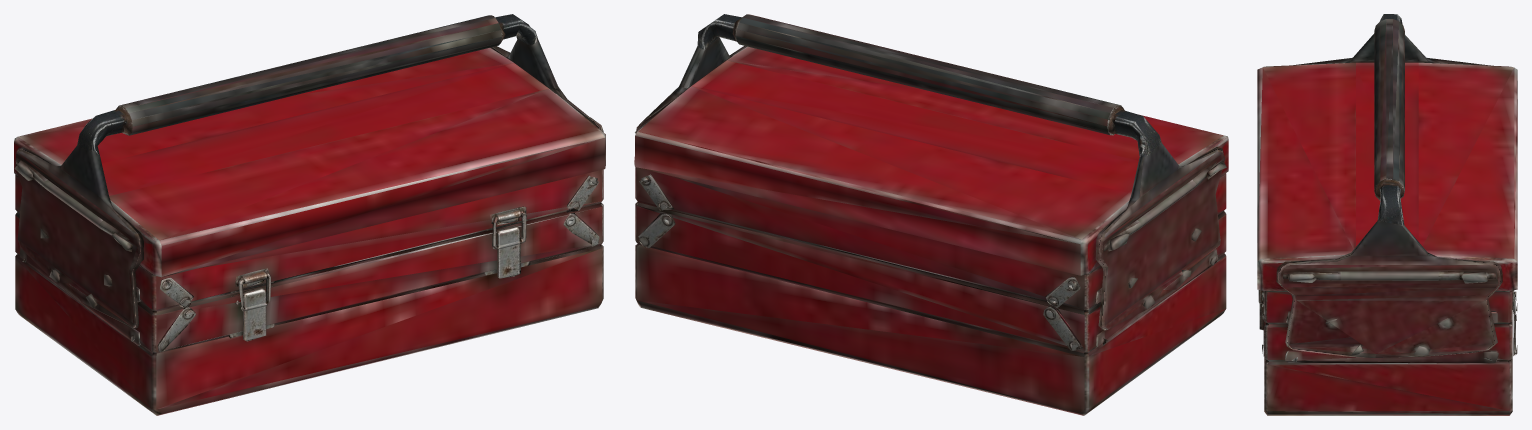
File: p7-hand-toolbox-t25.glb
3 views of the same model, side by side, from view 1: azimuth 30°, elevation 25°; view 2: azimuth 150°, elevation 25°; view 3: azimuth 270°, elevation 25° (orthographic). The views are drawn at different scales.
Parts seen in each view (by area): view 1: p7-hand-toolbox-t25; view 2: p7-hand-toolbox-t25; view 3: p7-hand-toolbox-t25.
Boxes of the visible parts, bbox=[...] form: p7-hand-toolbox-t25: bbox=[14, 14, 605, 415]; p7-hand-toolbox-t25: bbox=[634, 14, 1228, 415]; p7-hand-toolbox-t25: bbox=[1257, 14, 1517, 415].
Bounding box in the file's own units: 0.5 × 0.25 × 0.266.
Materials: 1 (1 with a texture image).
